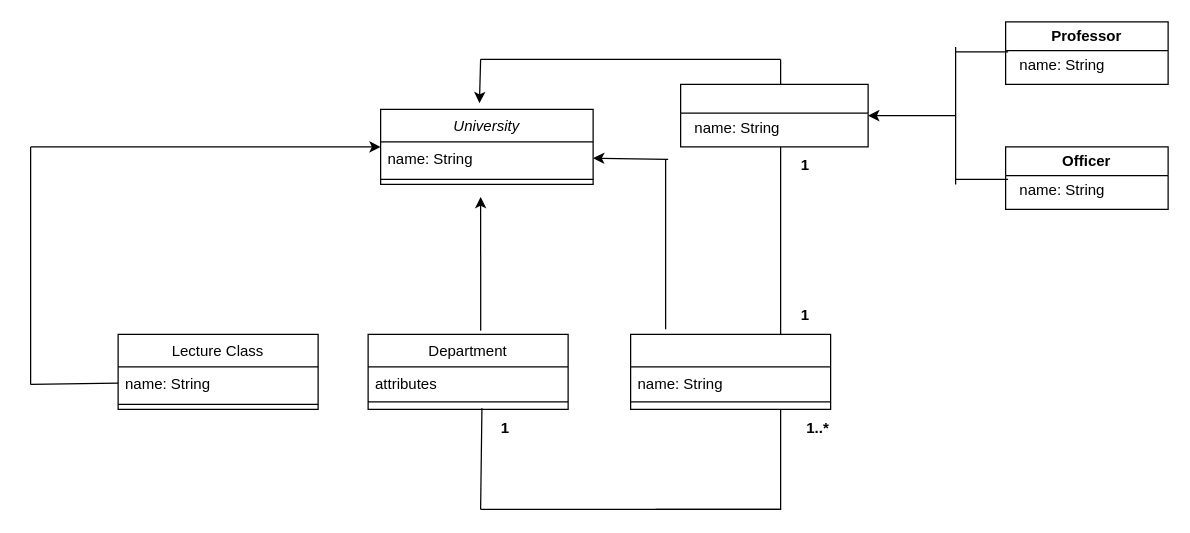
Some shapes in this 1190 by 533 pixel diagram are drawn without their labels. The box of each missing label's shape, as (x1, y1, x2, y2) in pixels:
Employee: (679, 83, 868, 147)
StudyOffice: (629, 333, 831, 409)
